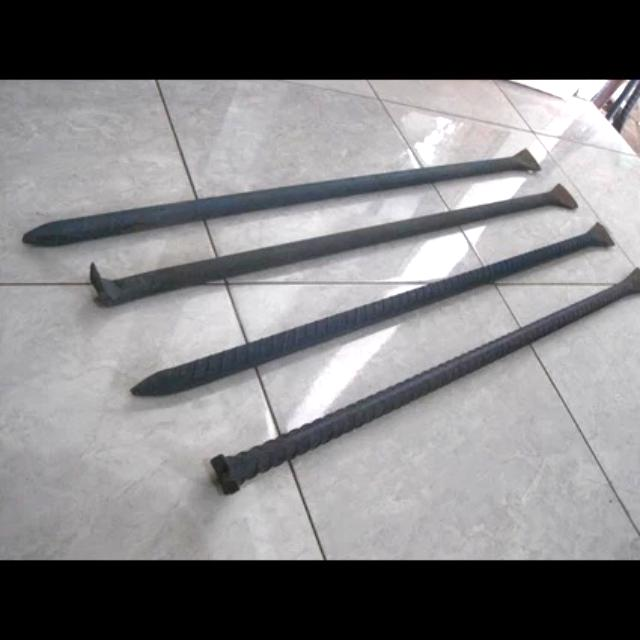crow bar: (208, 265, 640, 497), (126, 220, 617, 414), (86, 175, 587, 316)
